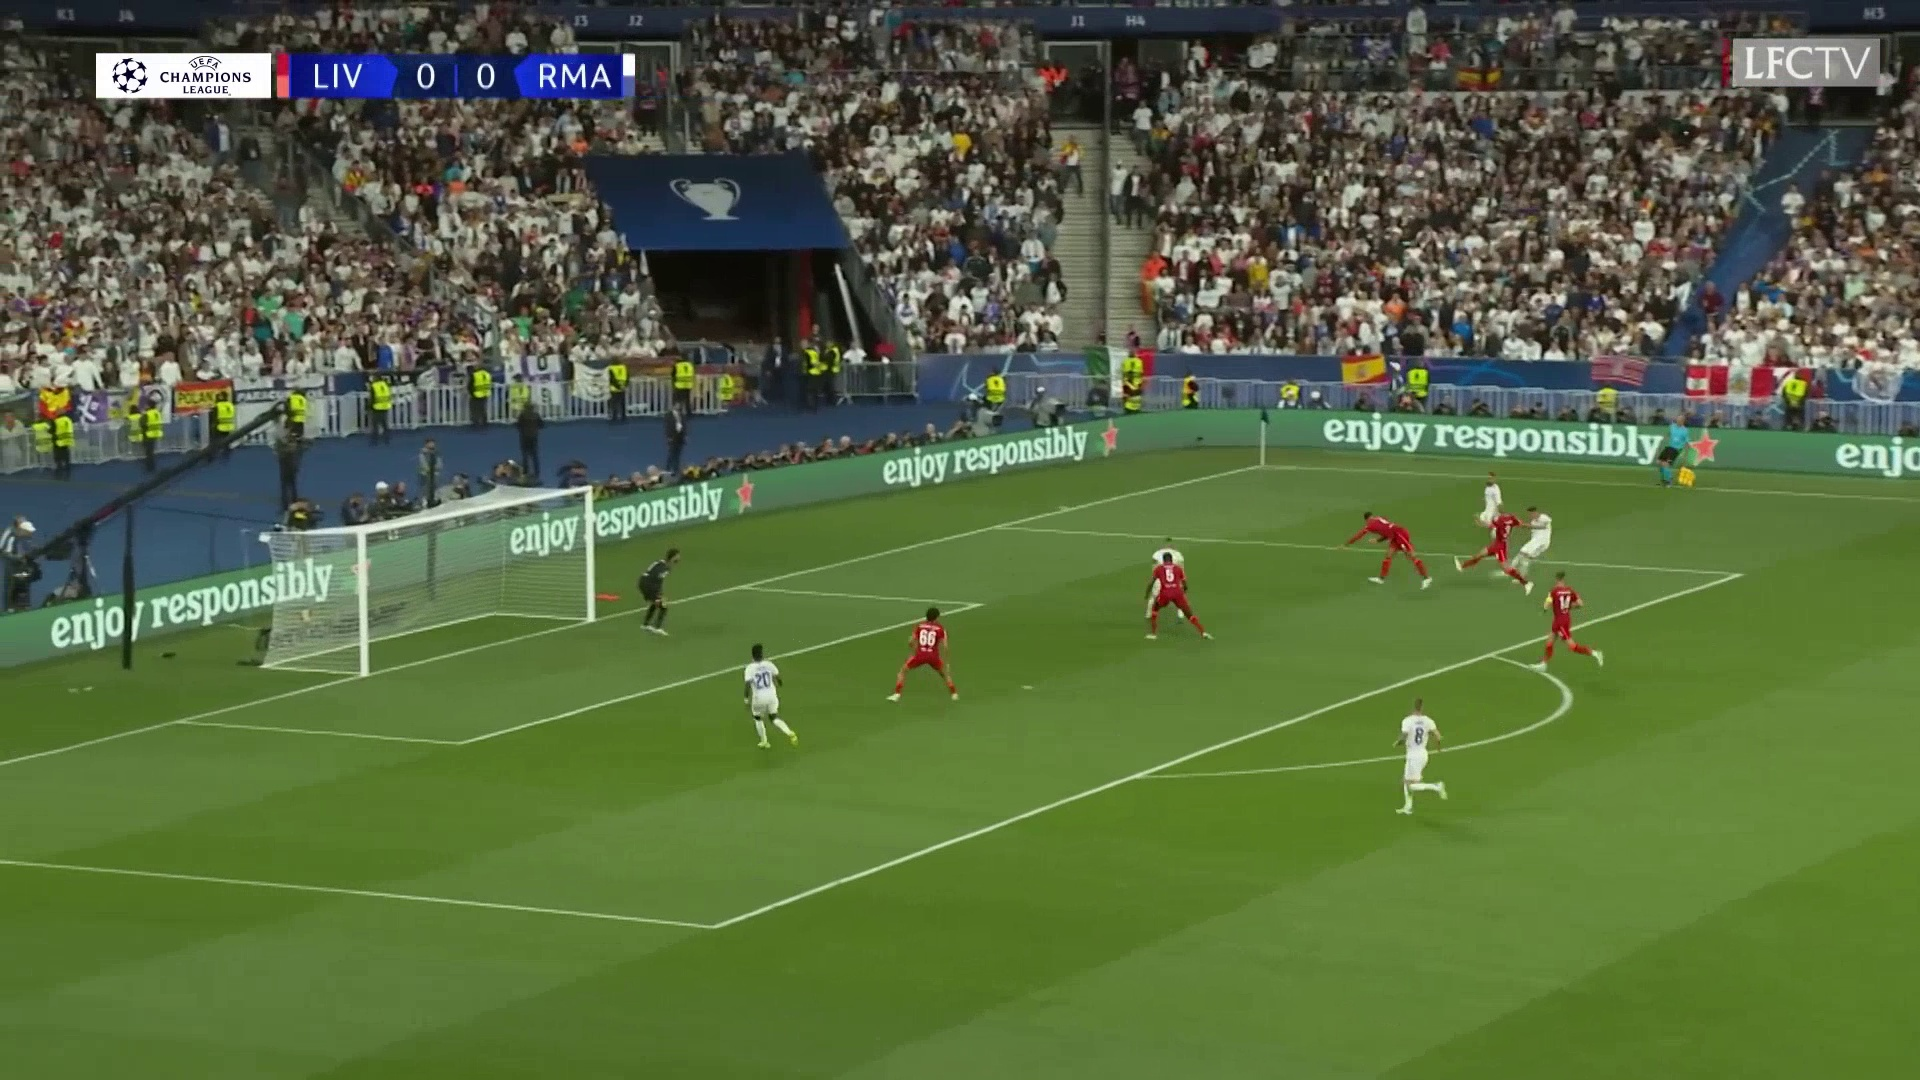player 1: (1521, 509, 1551, 588)
player 12: (631, 530, 694, 640)
player 13: (1342, 504, 1439, 588)
player 14: (886, 597, 972, 715)
player 15: (1463, 528, 1511, 575)
player 16: (1144, 558, 1215, 642)
player 17: (1539, 567, 1584, 681)
player 2: (1468, 465, 1510, 524)
player 3: (731, 636, 797, 750)
player 4: (1144, 541, 1185, 547)
player 5: (1392, 685, 1459, 814)
